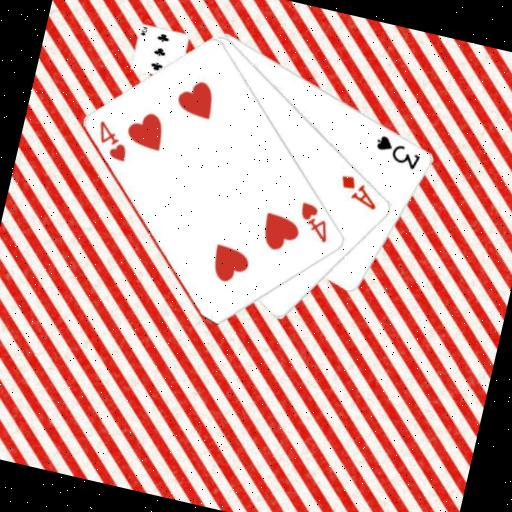3S: (369, 130, 426, 173)
4H: (291, 198, 337, 246), (90, 117, 136, 165)
AD: (334, 170, 385, 213)
